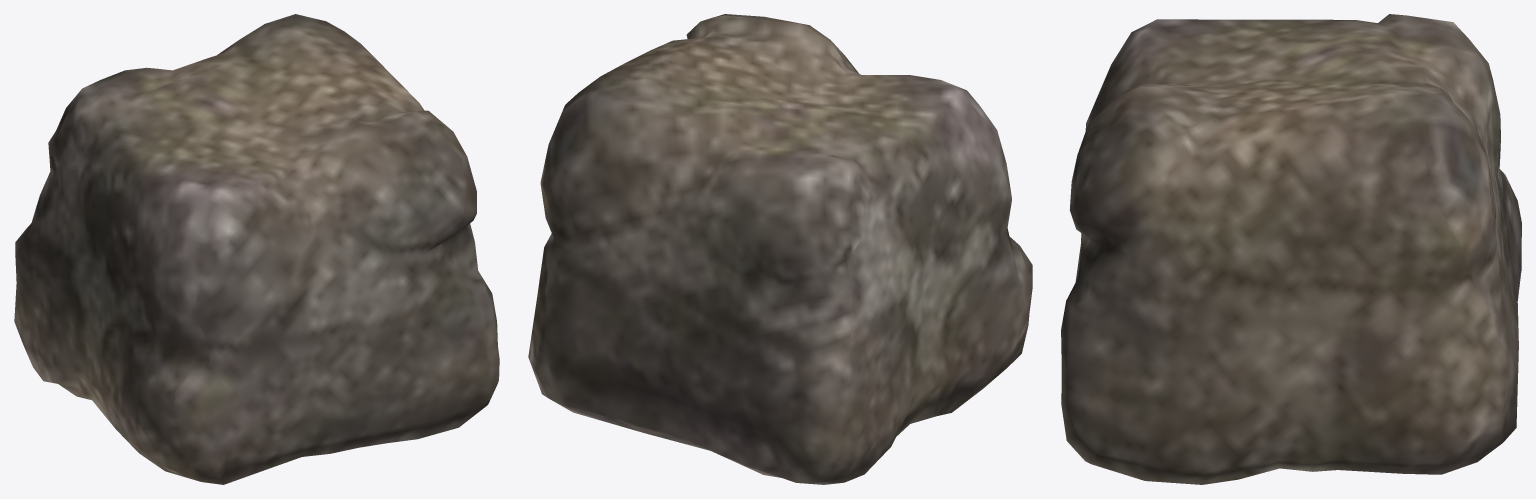
File: Ruins_Coll_B-transformed.glb
3 renders of one model, left to right at view 1: azimuth 30°, elevation 25°; view 2: azimuth 150°, elevation 25°; view 3: azimuth 270°, elevation 25°, orthographic. The views are drawn at different scales.
Visible parts, largest first — view 1: default; view 2: default; view 3: default.
Part boxes in pixels (<box>): default: <box>14,14,499,484</box>; default: <box>528,14,1032,484</box>; default: <box>1061,14,1521,484</box>.
Size of the model in its own units: 1.07 by 0.9522 by 1.08.
1 material, 1 textured.
